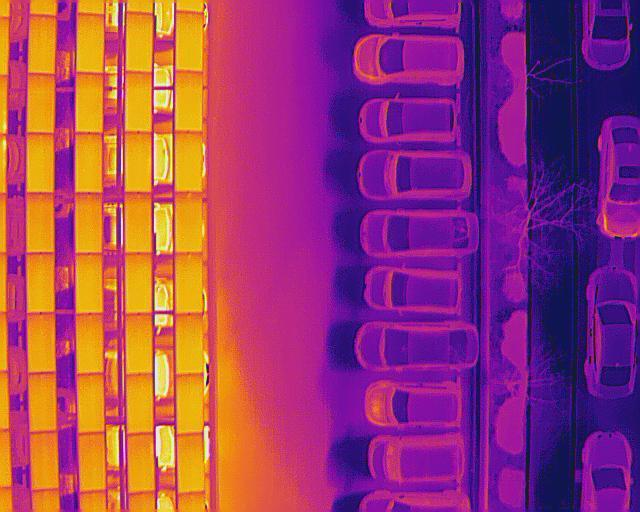No-Anomaly: (76, 373, 106, 432), (27, 312, 56, 373), (26, 251, 55, 312), (26, 193, 55, 252), (76, 133, 104, 193), (76, 312, 104, 372), (176, 10, 203, 72), (126, 375, 154, 434), (76, 72, 103, 133), (125, 314, 152, 375), (175, 191, 202, 252), (76, 252, 103, 313), (27, 134, 55, 192), (30, 372, 56, 434), (30, 434, 58, 491), (79, 432, 106, 491), (125, 253, 152, 312), (124, 72, 151, 131), (128, 434, 155, 493), (175, 133, 202, 192), (28, 73, 55, 132), (125, 133, 152, 192), (176, 313, 202, 374), (176, 72, 202, 133), (76, 194, 103, 252), (126, 12, 152, 72), (177, 374, 203, 434), (29, 15, 56, 72), (77, 12, 103, 71), (125, 193, 151, 252), (177, 434, 203, 493), (176, 254, 201, 315)
